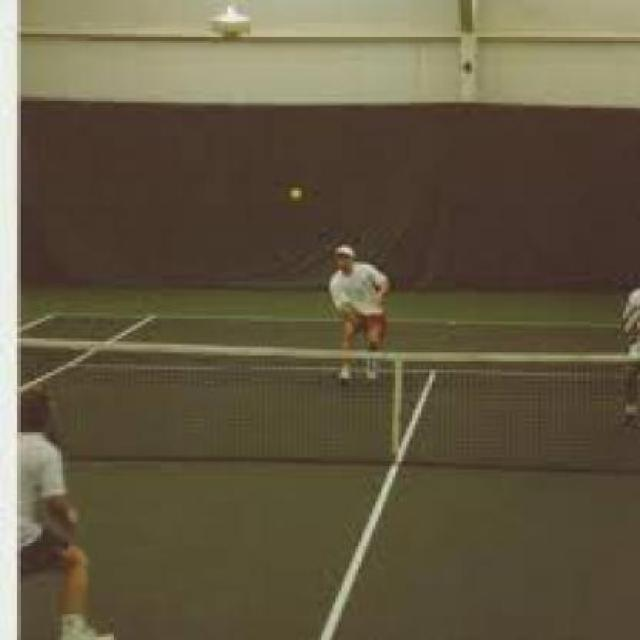Tennis_Ball: (290, 187, 300, 200)
